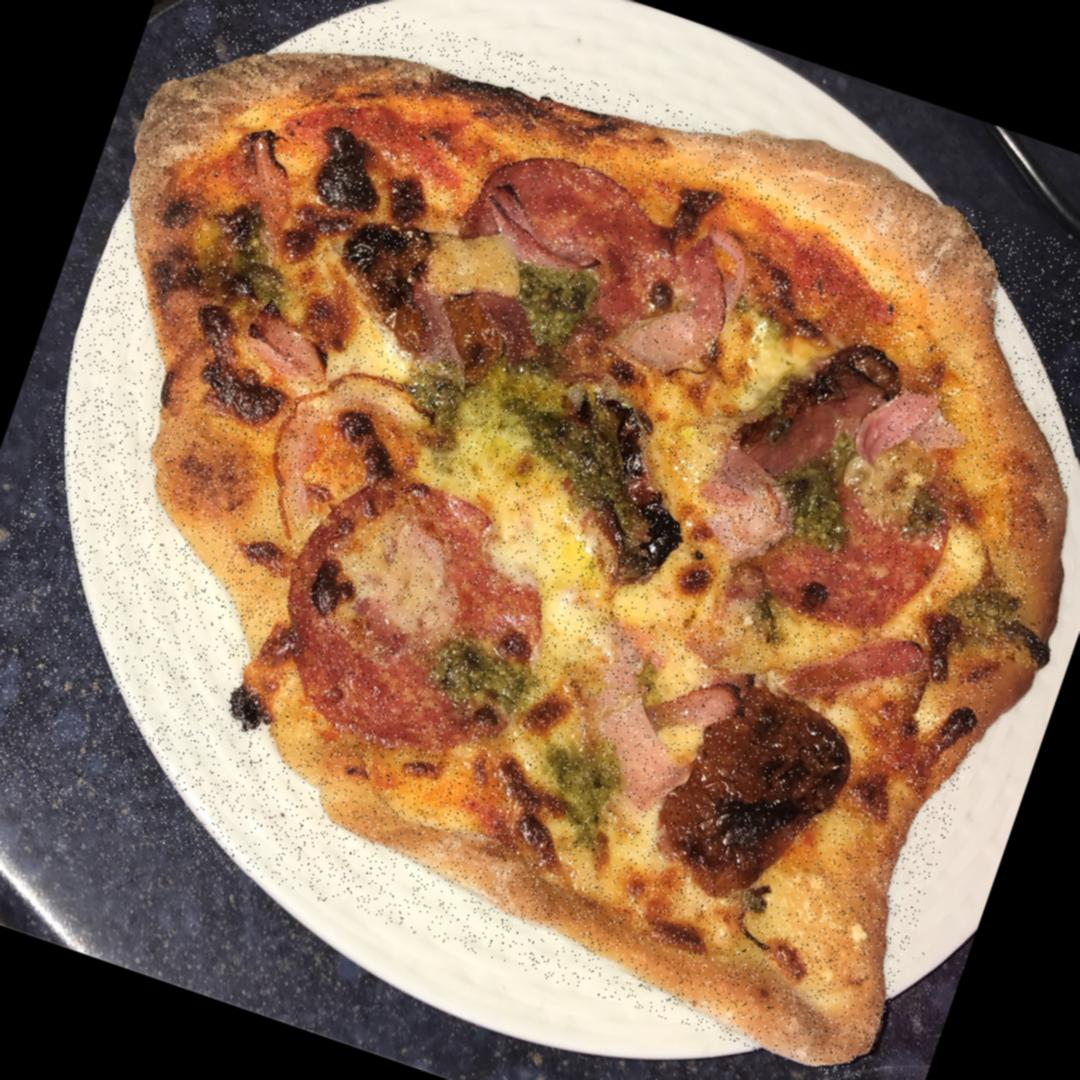Pepperoni: (251, 456, 577, 783), (448, 139, 762, 386), (649, 664, 870, 918), (734, 479, 954, 658), (728, 316, 910, 508)
Pizza: (0, 0, 1080, 1080)
